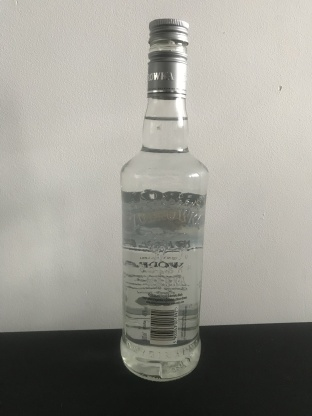nakretka: (146, 17, 189, 100)
